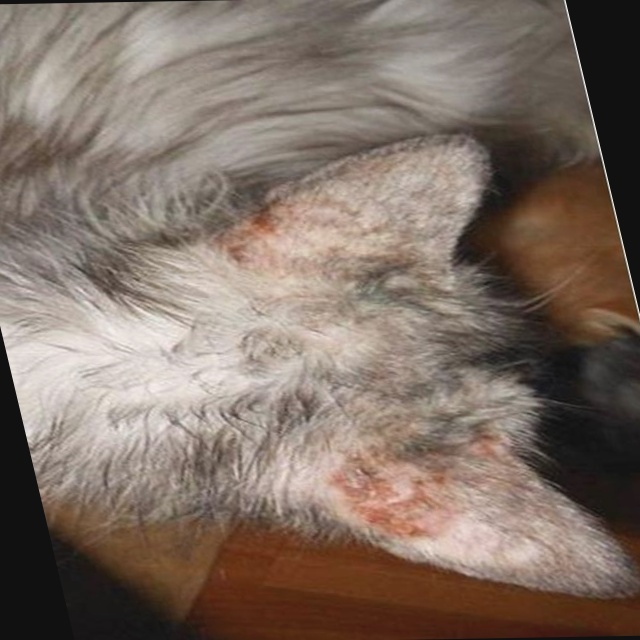ringworm: (329, 429, 501, 551), (194, 185, 341, 265)
